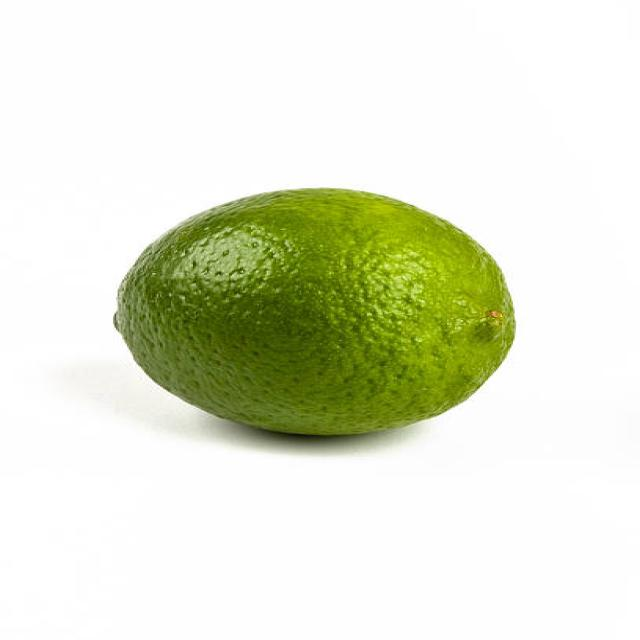Lemon: (104, 186, 530, 438)
